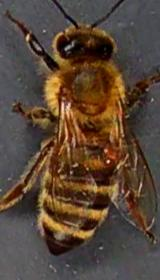varroa_mite: (100, 141, 122, 164)
